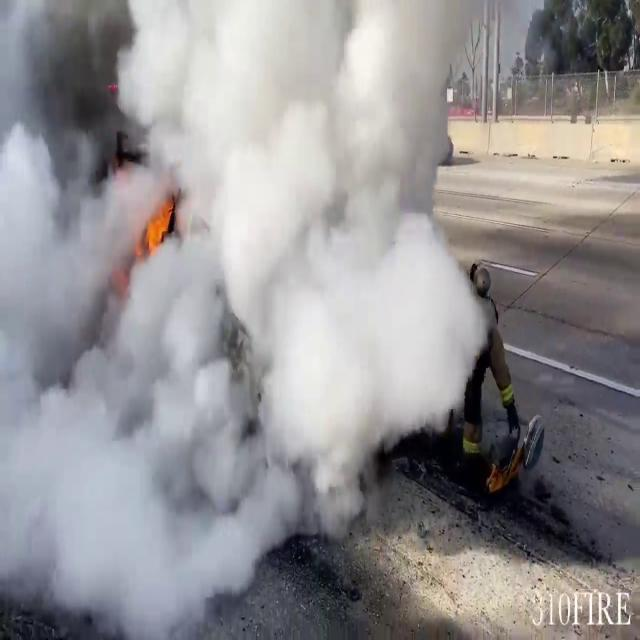Smoke: (0, 0, 487, 620)
